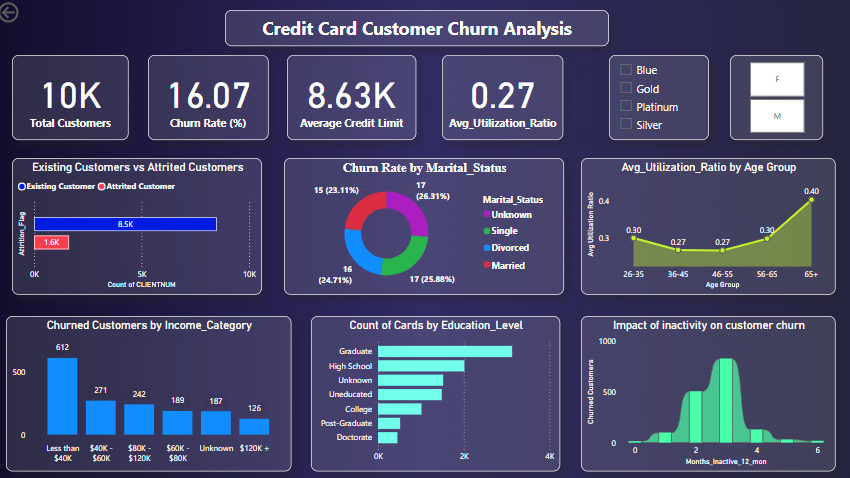

What the dashboard file says about the page in this screenshot:
{"tool":"powerbi","page":{"name":"Page 1","canvas":[1280,720],"ordinal":0},"visuals":[{"type":"card","fields":{"Values":["Count(BankChurners.CLIENTNUM)"]},"box":[25.7,83.8,174.3,127],"z":0},{"type":"actionButton","box":[0,0,100,40],"z":1000},{"type":"card","fields":{"Values":["Avg(BankChurners.Credit_Limit)"]},"box":[436.5,83.8,193.2,127],"z":2000},{"type":"card","fields":{"Values":["Avg(BankChurners.Avg_Utilization_Ratio)"]},"box":[667.6,83.8,181.1,127],"z":3000},{"type":"slicer","fields":{"Values":["BankChurners.Card_Category"]},"box":[916.2,83.8,148.6,127],"z":4000},{"type":"slicer","fields":{"Values":["BankChurners.Gender"]},"box":[1097.3,83.8,139.2,127],"z":5000},{"type":"barChart","title":"Existing Customers vs Attrited Customers","fields":{"Y":["Count(BankChurners.CLIENTNUM)"],"Category":["BankChurners.Attrition_Flag"],"Series":["BankChurners.Attrition_Flag"]},"box":[25.7,237.8,373,204.1],"z":6000},{"type":"donutChart","title":"Churn Rate  by Marital_Status","fields":{"Y":["BankChurners.Churn Rate (%)"],"Category":["BankChurners.Marital_Status"]},"box":[431.1,237.8,417.6,204.1],"z":7000},{"type":"clusteredColumnChart","fields":{"Category":["BankChurners.Income_Category"],"Y":["BankChurners.Churned Customers"]},"box":[16.2,473,425.7,232.4],"z":8000},{"type":"card","fields":{"Values":["BankChurners.Churn Rate (%)"]},"box":[228.4,83.8,179.7,127],"z":9000},{"type":"stackedAreaChart","title":"Avg_Utilization_Ratio by Age Group","fields":{"Category":["BankChurners.Age Group"],"Y":["Avg(BankChurners.Avg_Utilization_Ratio)"]},"box":[874.3,237.8,379.7,204.1],"z":10000},{"type":"barChart","title":"  Count of Cards by Education_Level","fields":{"Category":["BankChurners.Education_Level"],"Y":["CountNonNull(BankChurners.Card_Category)"]},"box":[471.6,473,371.6,232.4],"z":11000},{"type":"ribbonChart","title":"Impact of inactivity on customer churn","fields":{"Category":["BankChurners.Months_Inactive_12_mon"],"Y":["BankChurners.Churned Customers"]},"box":[874.3,473,379.7,232.4],"z":12000},{"type":"textbox","box":[343.2,16.2,573,54.1],"z":13000}]}

Visuals, with their boxes in screenshot pixels (x1, y1, x2, y2), scaled from the page's 1280x720 canvas onto the 850x478 screenshot:
card - Count(BankChurners.CLIENTNUM): 17,56,133,140
actionButton: 0,0,66,27
card - Avg(BankChurners.Credit_Limit): 290,56,418,140
card - Avg(BankChurners.Avg_Utilization_Ratio): 443,56,564,140
slicer - BankChurners.Card_Category: 608,56,707,140
slicer - BankChurners.Gender: 729,56,821,140
"Existing Customers vs Attrited Customers" barChart: 17,158,265,293
"Churn Rate  by Marital_Status" donutChart: 286,158,564,293
clusteredColumnChart - BankChurners.Income_Category x BankChurners.Churned Customers: 11,314,293,468
card - BankChurners.Churn Rate (%): 152,56,271,140
"Avg_Utilization_Ratio by Age Group" stackedAreaChart: 581,158,833,293
"  Count of Cards by Education_Level" barChart: 313,314,560,468
"Impact of inactivity on customer churn" ribbonChart: 581,314,833,468
textbox: 228,11,608,47
